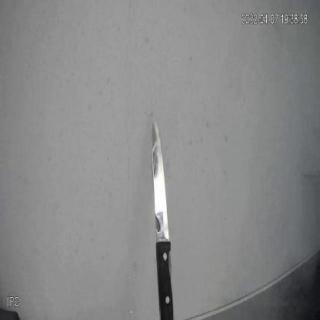knife: (140, 94, 184, 320)
